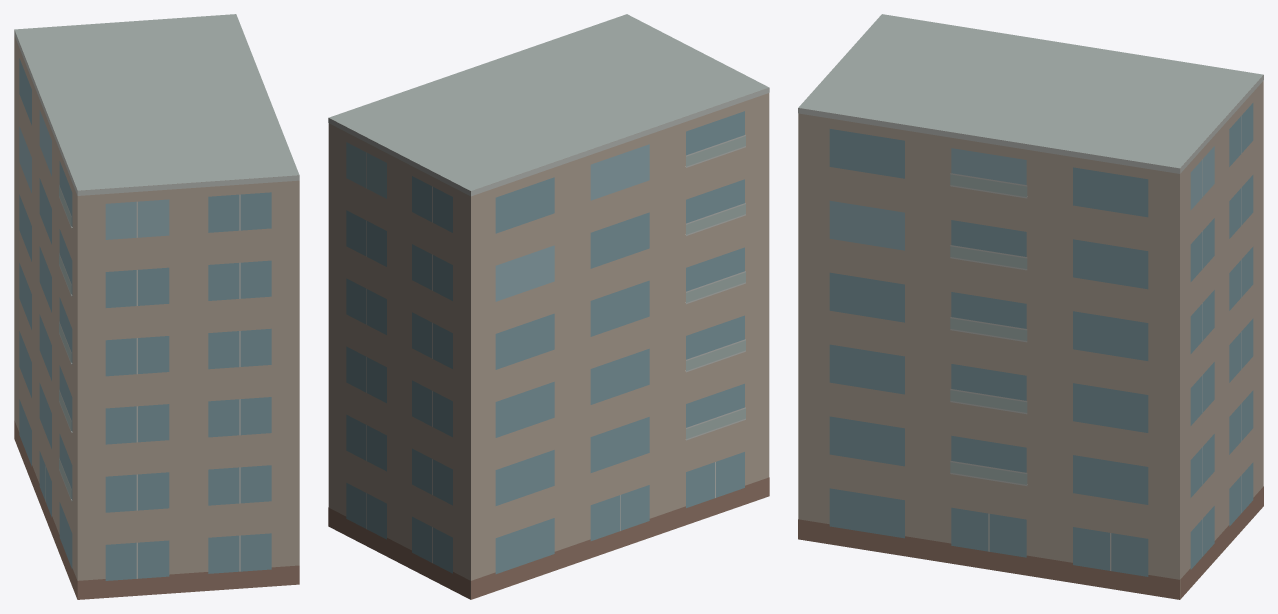
File: survey-upis-32940487.glb
3 renders of one model, left to right at view 1: azimuth 30°, elevation 25°; view 2: azimuth 150°, elevation 25°; view 3: azimuth 270°, elevation 25°, orthographic. The views are drawn at different scales.
Parts seen in each view (by area): view 1: survey-upis-32940487.tmp; view 2: survey-upis-32940487.tmp; view 3: survey-upis-32940487.tmp.
Boxes of the visible parts, left/top/right/bottom form: survey-upis-32940487.tmp: left=14, top=14, right=299, bottom=599; survey-upis-32940487.tmp: left=328, top=14, right=769, bottom=599; survey-upis-32940487.tmp: left=798, top=14, right=1263, bottom=599.
Bounding box in the file's own units: 14.36 × 18.7 × 18.3.
